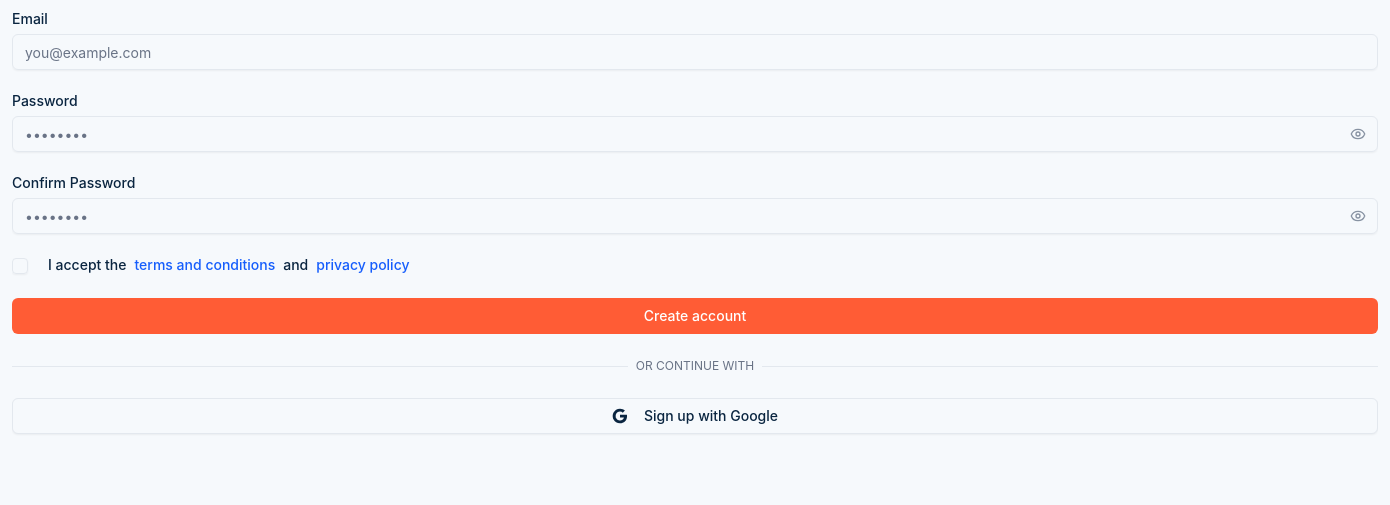
Test: [P0] Story 8.1: Email/Password Registration Integration › 8.1-INT-007: should require terms acceptance
# Fill form but don't accept terms
Type "lawrence.dass@outlook.in" into the field with test id "email-input" at (695, 52), box x1=12 y1=34 x2=1378 y2=70
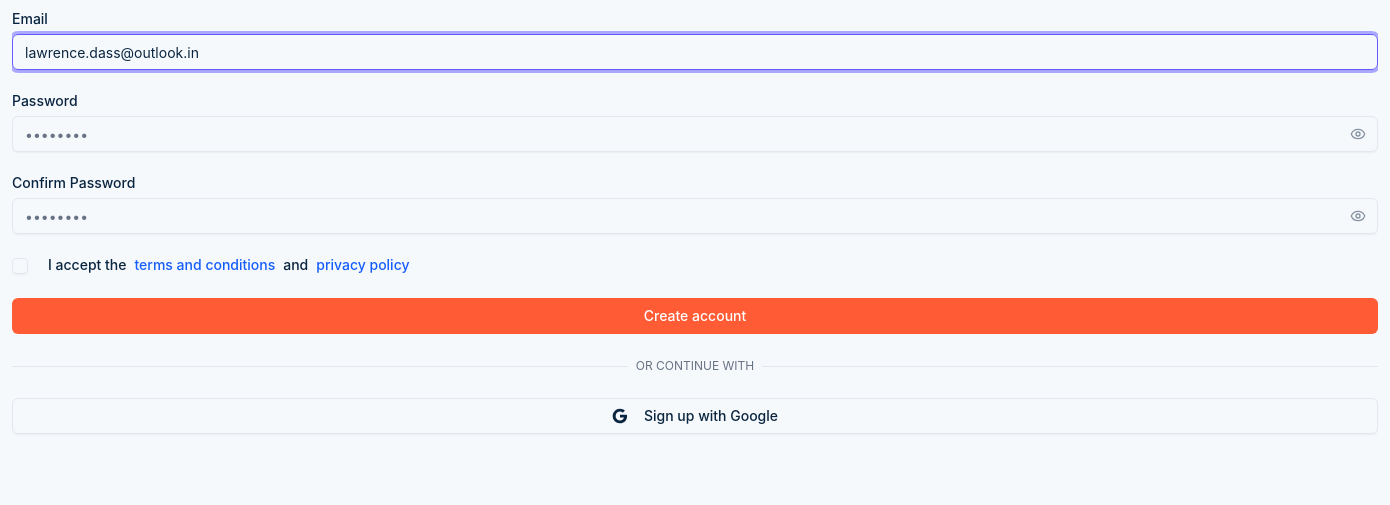
Type "Password123!" into the password field with test id "password-input" at (695, 134), box x1=12 y1=116 x2=1378 y2=152
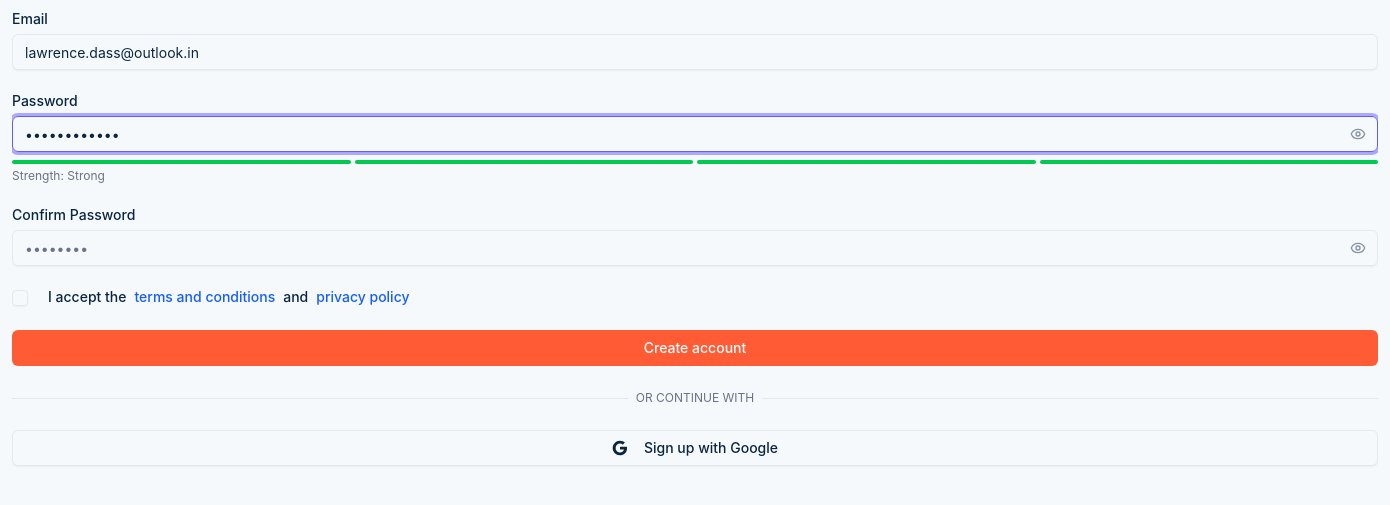
Type "Password123!" into the password field with test id "confirm-password-input" at (695, 248), box x1=12 y1=230 x2=1378 y2=266
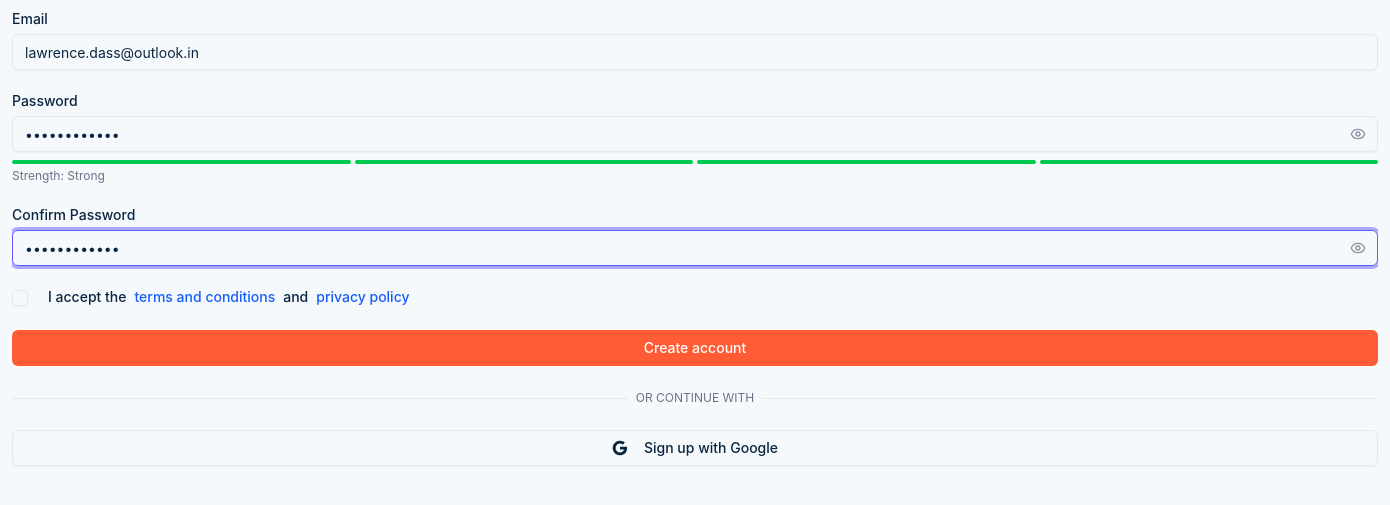
# Try to submit without accepting terms
Click the button with test id "signup-button" at (695, 348), box x1=12 y1=330 x2=1378 y2=366
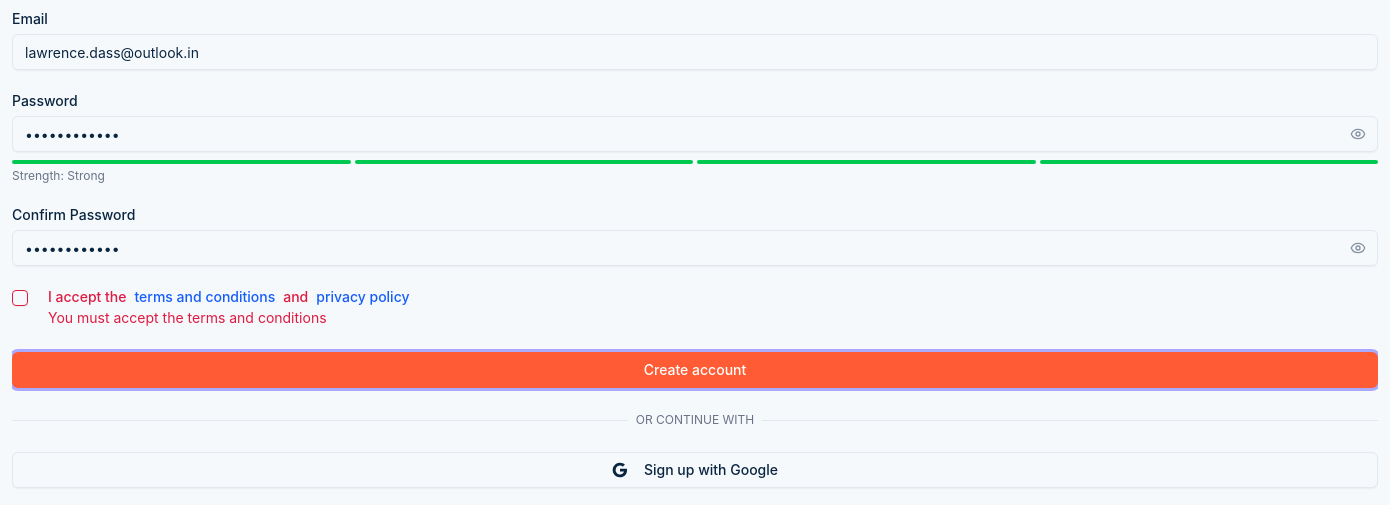
Expected: the text "You must accept the terms and conditions" is shown, x1=48 y1=309 x2=326 y2=326
